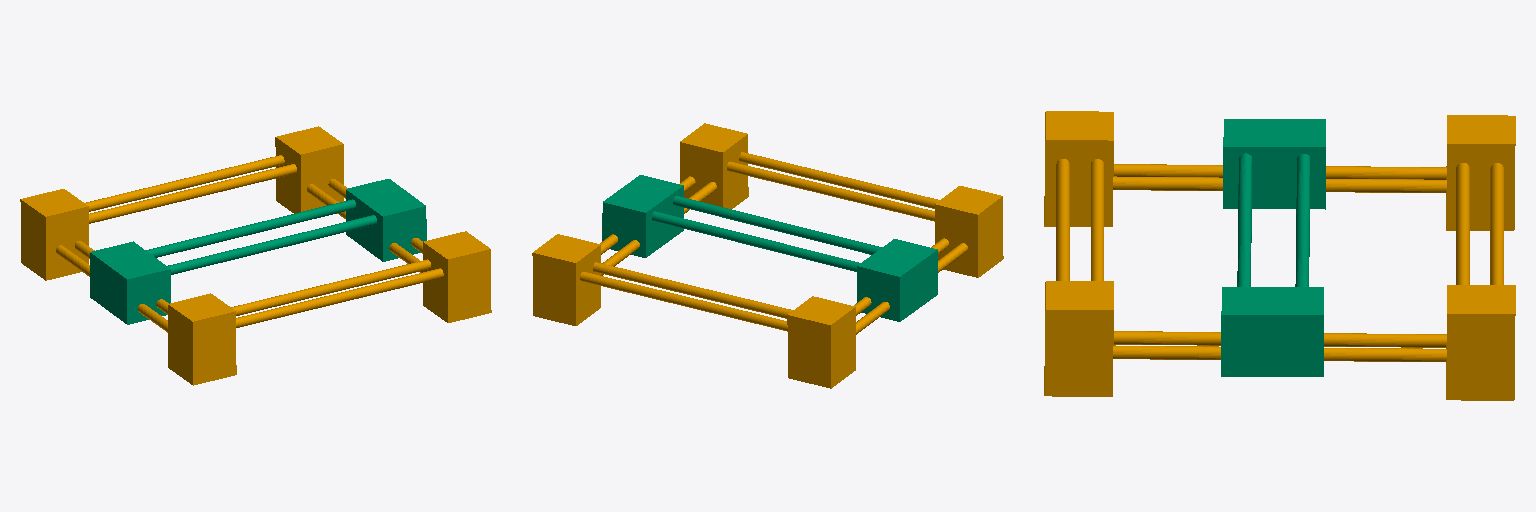
URDF robot description (robot_armm):
<?xml version ="1.0"?> <!-- ประกาศเวอร์ชั่น -->

<robot name = "robot_armm"> <!--ตั้งชื่อ robot -->

<link name = "base_link">
    <visual>
        <geometry>
            <mesh filename="package://robot_description/robot_urdf/robot_base.stl" scale = "0.001 0.001 0.001" />
        </geometry>
        <origin xyz = "-0.35 0.35 0.0" rpy = "1.56 0 0" />
    </visual>

    <collision>
        <geometry>
            <mesh filename ="package://robot_description/robot_urdf/robot_base.stl" scale = "0.001 0.001 0.001"/>
        </geometry>
        <origin xyz = "-0.35 0.35 0.0" rpy = "1.56 0 0" />
    </collision>

     <inertial>
        <origin xyz = "-0.35 0.35 0.0" rpy = "1.56 0 0" />
        <mass value = "0.104"/>
        <inertia ixx = "0.001" ixy = "0" ixz = "0" iyy = "0.001" iyz = "0" izz = "0.001"/>
    </inertial>
</link>

<!-- ////////////    link1    /////////// -->
<link name = "link1">
    <visual>
        <geometry>
            <mesh filename="package://robot_description/robot_urdf/robot_link1.stl" scale = "0.001 0.001 0.001" />
        </geometry>
        <origin xyz = "0.076 0.35 0.076" rpy = "1.56 3.15 0" />
    </visual>

    <collision>
        <geometry>
            <mesh filename ="package://robot_description/robot_urdf/robot_link1.stl" scale = "0.001 0.001 0.001"/>
        </geometry>
        <origin xyz = "0.076 0.35 0.076" rpy = "1.56 0 0" />
    </collision>

     <inertial>
        <origin xyz = "0.076 0.35 0.076" rpy = "1.56 0 0" />
        <mass value = "0.104"/>
        <inertia ixx = "0.001" ixy = "0" ixz = "0" iyy = "0.001" iyz = "0" izz = "0.001"/>
    </inertial>
</link>

<!-- ////////////    joint1    /////////// -->
<joint name = "joint1" type = "prismatic">

    <parent link = "base_link"/>  
    <child link = "link1"/> 
    <origin xyz = "0 0 0.07" rpy = "0 0 0"/> 
    <axis xyz = "1 0 0"/>

    <limit lower = "-0.15" upper = "0.15" effort = "100" velocity = "1"/>
</joint>

<!-- ////////////    link2    /////////// -->
<link name = "link2">
    <visual>
        <geometry>
            <mesh filename="package://robot_description/robot_urdf/robot_link2.stl" scale = "0.001 0.001 0.001" />
        </geometry>
        <origin xyz = "-0.35 -0.075 -0.065" rpy = "1.566 0.0 1.566" />
    </visual>

    <collision>
 
        <geometry>
            <mesh filename ="package://robot_description/robot_urdf/robot_link2.stl" scale = "0.001 0.001 0.001"/>
        </geometry>
        <origin xyz = "-0.35 -0.075 -0.065" rpy = "1.56 0 0" />
    </collision>

     <inertial>
        <origin xyz = "-0.35 -0.075 -0.065" rpy = "1.56 0 0" />
        <mass value = "0.104"/>

        <inertia ixx = "0" ixy = "0" ixz = "0" iyy = "0.001" iyz = "0.0" izz = "0.001"/>
    </inertial>
</link>

<!-- ////////////    joint2    /////////// -->
<joint name = "joint2" type = "prismatic">

    <parent link = "base_link"/>    
    <child link = "link2"/>   
    <origin xyz = "0.0 0.0 0.1" rpy = "0 0 0"/>  
    <axis xyz = "0 1 0"/>      

    <limit lower = "-0.15" upper = "0.15" effort = "100" velocity = "1"/>
</joint>

</robot>

--- What the picture shows (computed from the rendered views, not written in the file) ---
3 views of the same robot in one strip: view 1: azimuth 30°, elevation 25°; view 2: azimuth 150°, elevation 25°; view 3: azimuth 270°, elevation 25° (orthographic).
Robot: robot_armm — 3 links, 2 joints (2 prismatic); root link base_link; default pose: all joints at 0.
Visible links, largest first — view 1: base_link, link2; view 2: base_link, link2; view 3: base_link, link2.
Link boxes in pixels (box(x1,y1,x2,y2)): base_link: box(20, 126, 491, 385); link2: box(90, 179, 426, 324); base_link: box(532, 123, 1003, 388); link2: box(602, 175, 937, 321); base_link: box(1044, 111, 1515, 400); link2: box(1221, 119, 1325, 376).
Size in the robot's own frame: 0.6882 by 0.6885 by 0.1474 metres.
Meshes: 3 distinct files referenced, 2 mesh visuals loaded (2 binary STL); not drawn: 1 (reference not matched to a file when rendering).